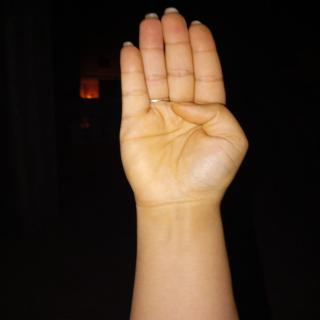KAAF: (102, 4, 249, 235)
